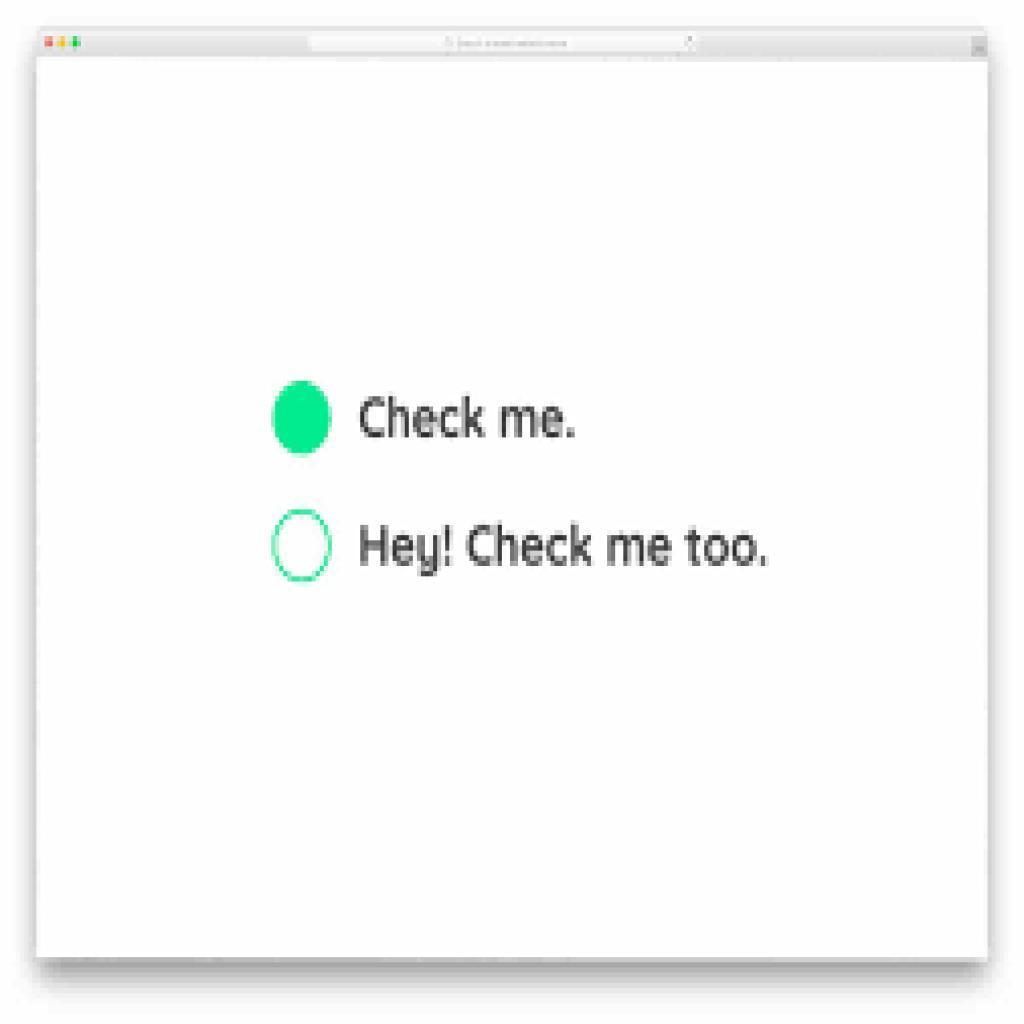label: (354, 520, 774, 580), (354, 391, 577, 452)
radio: (268, 378, 336, 459), (269, 505, 336, 585)
